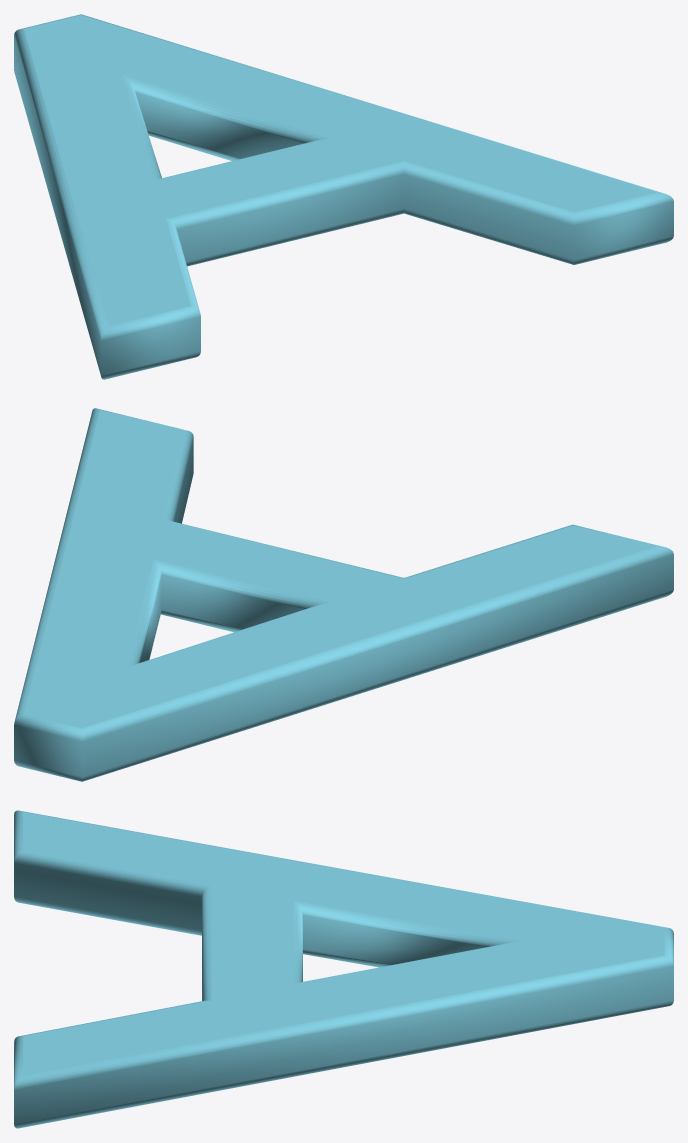
3 views of the same model, one above another, from view 1: azimuth 30°, elevation 25°; view 2: azimuth 150°, elevation 25°; view 3: azimuth 270°, elevation 25° (orthographic). The views are drawn at different scales.
Parts seen in each view (by area): view 1: Text.003; view 2: Text.003; view 3: Text.003.
Boxes of the visible parts, box(x1,y1,x2,y2) form: Text.003: box(14, 14, 673, 379); Text.003: box(14, 408, 673, 781); Text.003: box(14, 810, 673, 1128).
Size of the model in its own units: 0.6975 by 0.06 by 0.706.
